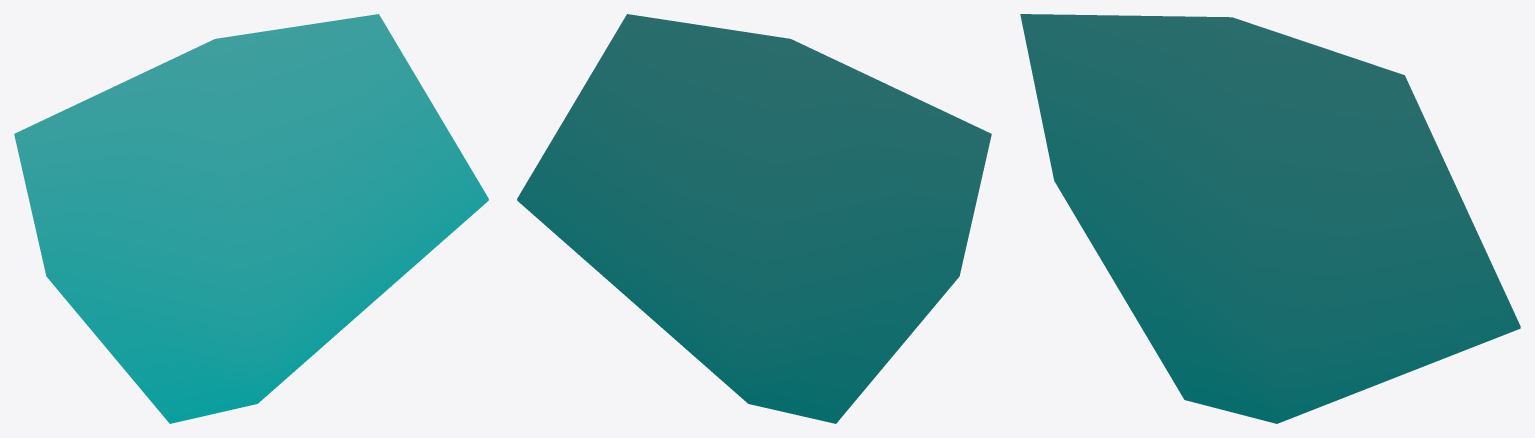
Rendered from Wild_Grass_vlkhcbxia_Mid_vlkhcbxia_VarD_LOD3.fbx.
The picture shows the model from 3 angles, left to right: view 1: azimuth 30°, elevation 25°; view 2: azimuth 150°, elevation 25°; view 3: azimuth 330°, elevation 25°; orthographic projection. The views are drawn at different scales.
Visible parts, largest first — view 1: _6fsx_VarD_LOD4; view 2: _6fsx_VarD_LOD4; view 3: _6fsx_VarD_LOD4.
Boxes of the visible parts, left/top/right/bottom form: _6fsx_VarD_LOD4: left=14, top=14, right=488, bottom=423; _6fsx_VarD_LOD4: left=517, top=14, right=991, bottom=423; _6fsx_VarD_LOD4: left=1020, top=14, right=1520, bottom=423.
Size of the model in its own units: 35.88 by 27.11 by 0.
